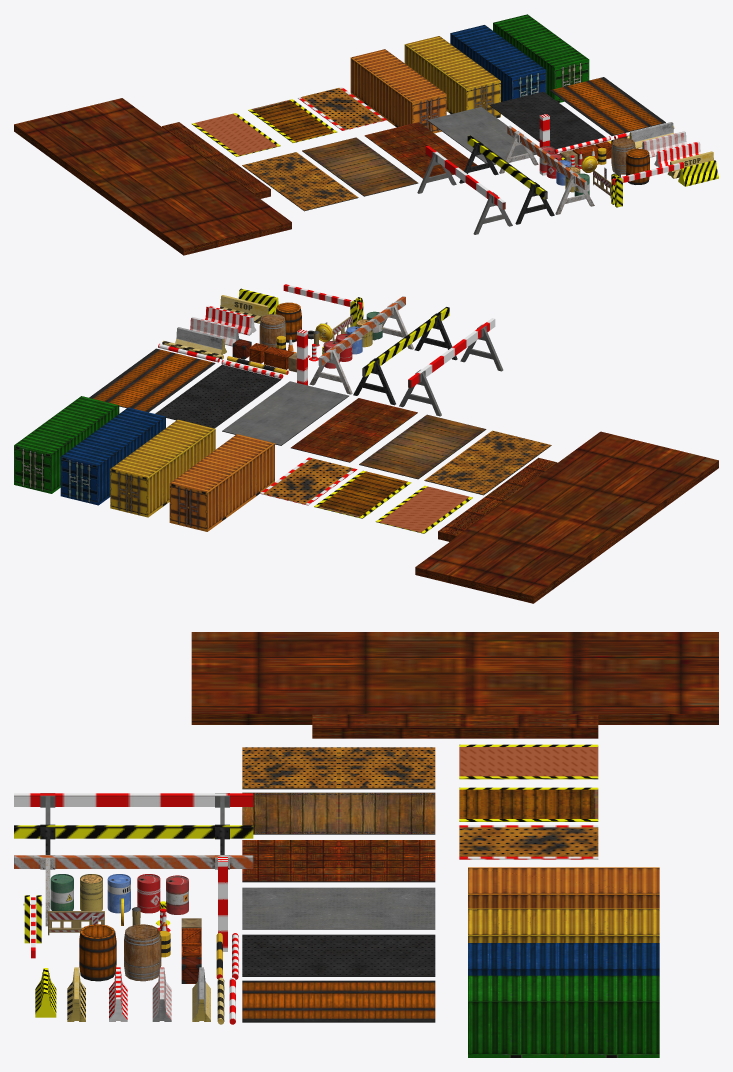
File: assets.glb
3 renders of one model, top to bottom at view 1: azimuth 30°, elevation 25°; view 2: azimuth 150°, elevation 25°; view 3: azimuth 270°, elevation 25°, orthographic. The views are drawn at different scales.
Parts seen in each view (by area): view 1: _2__9_1_lambert2_0, CONTAINER_ORANGE, CONTAINER_YELLOW, CONTAINER_BLUE, CONTAINER_GREEN, ramp_04, ramp_05, ramp_09, ramp_08, ramp_06, ramp_07, ramp_02 (+20 smaller); view 2: _2__9_1_lambert2_0, CONTAINER_ORANGE, CONTAINER_YELLOW, CONTAINER_BLUE, CONTAINER_GREEN, ramp_05, ramp_04, ramp_06, ramp_07, ramp_08, ramp_09, ramp_012 (+18 smaller); view 3: _2__9_1_lambert2_0, CONTAINER_GREEN, ramp_05, ramp_07, ramp_08, ramp_09, ramp_06, ramp_04, CONTAINER_ORANGE, _2__9__lambert2_0, CONTAINER_YELLOW, CONTAINER_BLUE (+20 smaller).
Part boxes in pixels (x1,y1,x2,y2): _2__9_1_lambert2_0: [14, 98, 291, 255]; CONTAINER_ORANGE: [350, 49, 446, 133]; CONTAINER_YELLOW: [404, 36, 500, 117]; CONTAINER_BLUE: [450, 25, 546, 101]; CONTAINER_GREEN: [493, 14, 589, 102]; ramp_04: [302, 137, 418, 196]; ramp_05: [242, 152, 358, 211]; ramp_09: [549, 77, 665, 135]; ramp_08: [489, 91, 605, 149]; ramp_06: [364, 122, 477, 178]; ramp_07: [427, 107, 535, 164]; ramp_02: [192, 113, 280, 156]; _2__9_1_lambert2_0: [415, 431, 718, 603]; CONTAINER_ORANGE: [169, 434, 274, 531]; CONTAINER_YELLOW: [110, 419, 215, 517]; CONTAINER_BLUE: [60, 407, 165, 505]; CONTAINER_GREEN: [14, 396, 119, 493]; ramp_05: [424, 430, 551, 495]; ramp_04: [359, 414, 486, 479]; ramp_06: [291, 398, 417, 462]; ramp_07: [222, 381, 348, 445]; ramp_08: [155, 364, 281, 428]; ramp_09: [89, 348, 215, 412]; ramp_012: [260, 457, 357, 505]; _2__9_1_lambert2_0: [191, 632, 718, 724]; CONTAINER_GREEN: [468, 975, 659, 1057]; ramp_05: [242, 747, 435, 789]; ramp_07: [242, 887, 435, 929]; ramp_08: [242, 934, 435, 976]; ramp_09: [242, 980, 435, 1022]; ramp_06: [242, 840, 435, 882]; ramp_04: [242, 792, 435, 834]; CONTAINER_ORANGE: [468, 867, 659, 908]; _2__9__lambert2_0: [312, 714, 598, 738]; CONTAINER_YELLOW: [468, 908, 659, 942]; CONTAINER_BLUE: [468, 943, 659, 975].
Bounding box in the file's own units: 28.97 × 3.75 × 22.81.
Materials: 1 (1 with a texture image).
